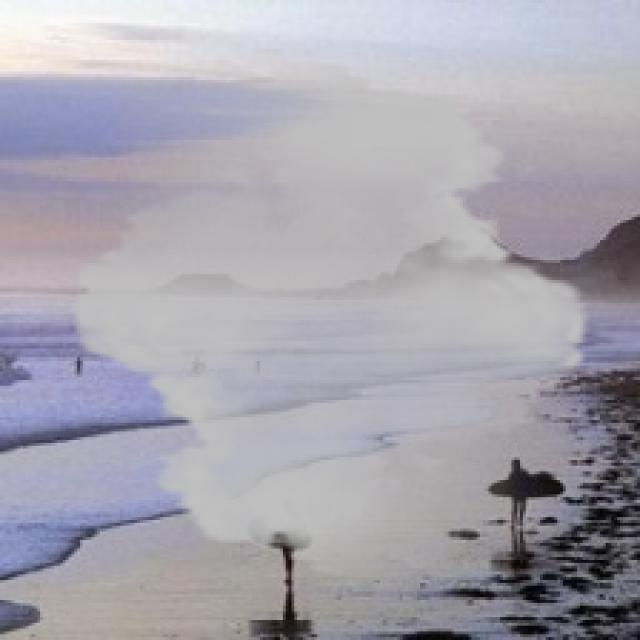Smoke: (49, 49, 612, 588)
